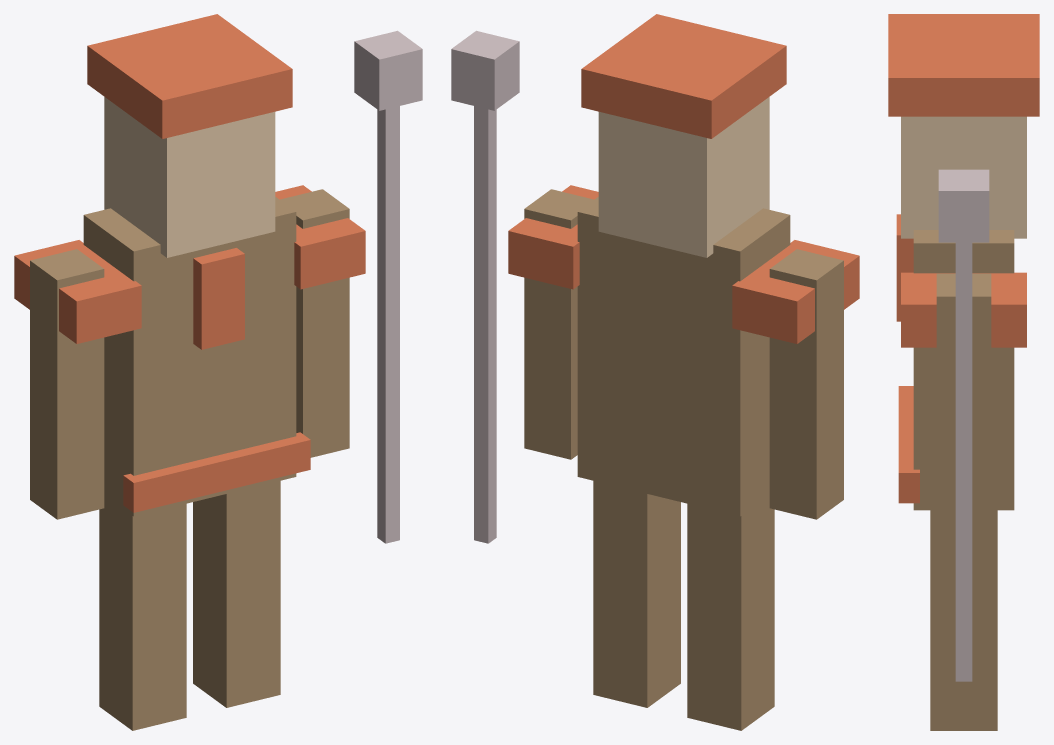
File: 09_eryk_whispercoil_custodian_under_pack.glb
3 views of the same model, side by side, from view 1: azimuth 30°, elevation 25°; view 2: azimuth 150°, elevation 25°; view 3: azimuth 270°, elevation 25° (orthographic).
Visible parts, largest first — view 1: Eryk Whispercoil, Custodian under Pack; view 2: Eryk Whispercoil, Custodian under Pack; view 3: Eryk Whispercoil, Custodian under Pack.
Boxes of the visible parts, x1,y1,x2,y2 form: Eryk Whispercoil, Custodian under Pack: (14, 14, 422, 730); Eryk Whispercoil, Custodian under Pack: (451, 14, 859, 730); Eryk Whispercoil, Custodian under Pack: (888, 14, 1039, 730).
Bounding box in the file's own units: 1.02 × 1.71 × 0.3615.
